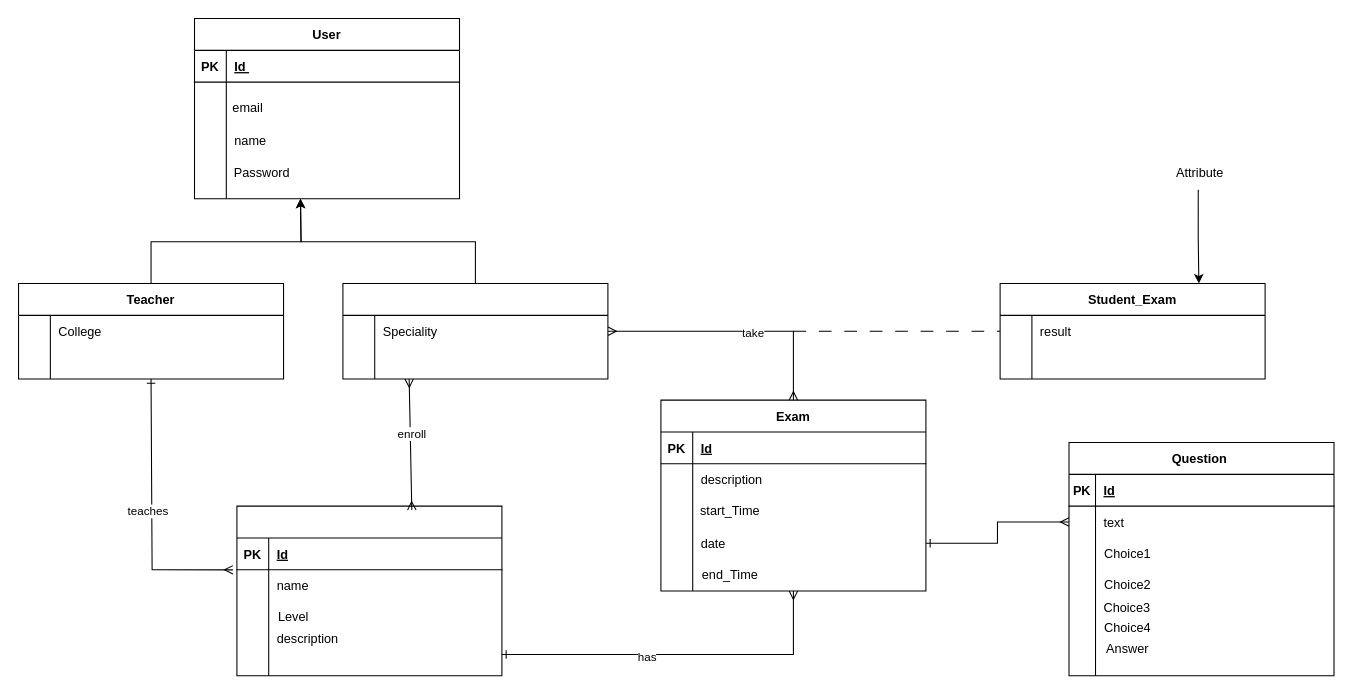
The diagram is 1353 pixels wide and 694 high, and some of its shapes have lost their labels. Here are the shapes that lost their labels. From the top down, the box of each, then its label:
(342, 282, 608, 379): Student
(236, 505, 502, 676): Course
